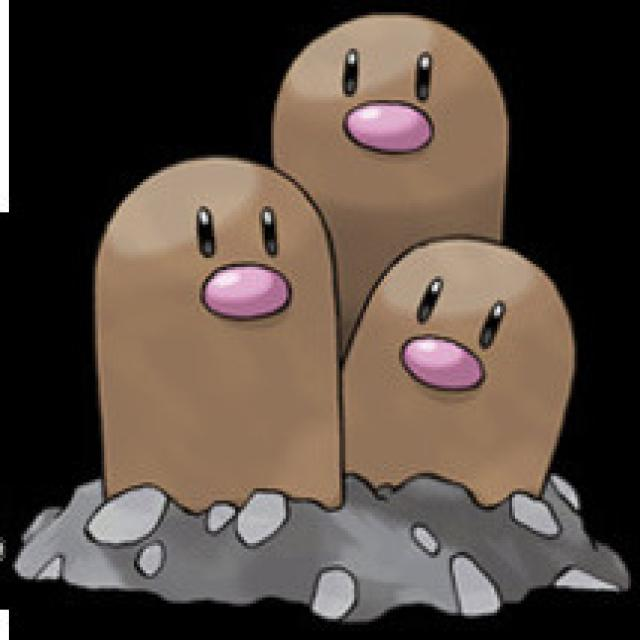Dugtrio: (84, 10, 571, 503)
